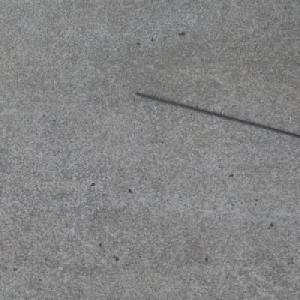LuggagePart: (131, 91, 300, 139)
